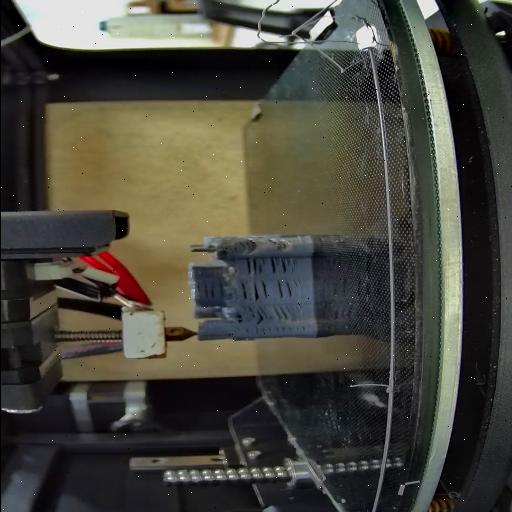cracks: (244, 324, 308, 334), (276, 278, 302, 300), (240, 280, 268, 300), (198, 278, 223, 300), (268, 257, 294, 275), (272, 304, 298, 320), (244, 257, 260, 276), (248, 306, 264, 323), (237, 240, 257, 250), (268, 238, 280, 246), (223, 332, 232, 338)
